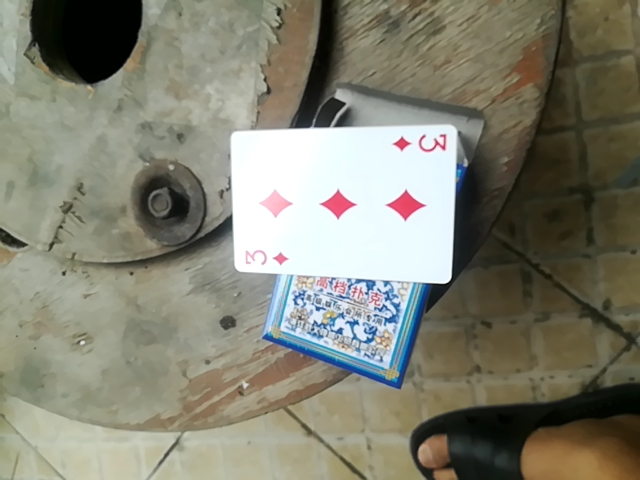fk 3: (226, 120, 469, 284)
